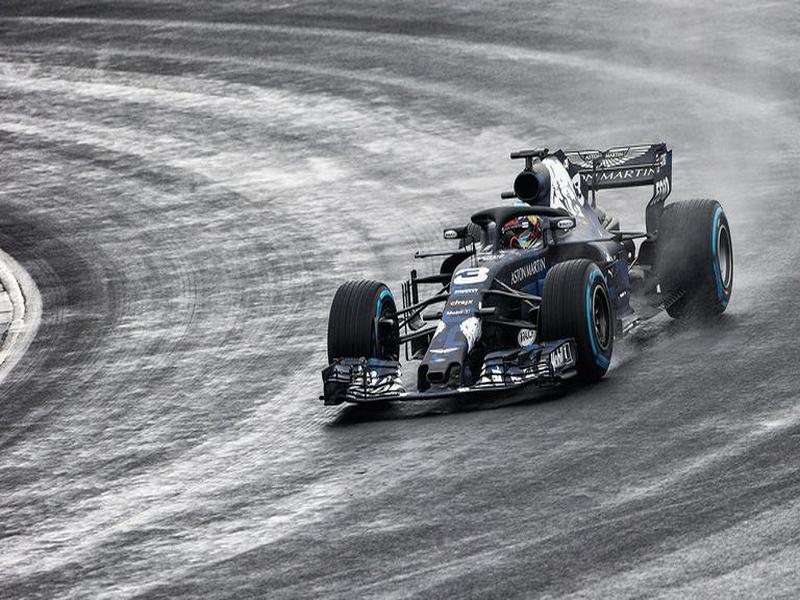f1: (330, 134, 770, 422)
